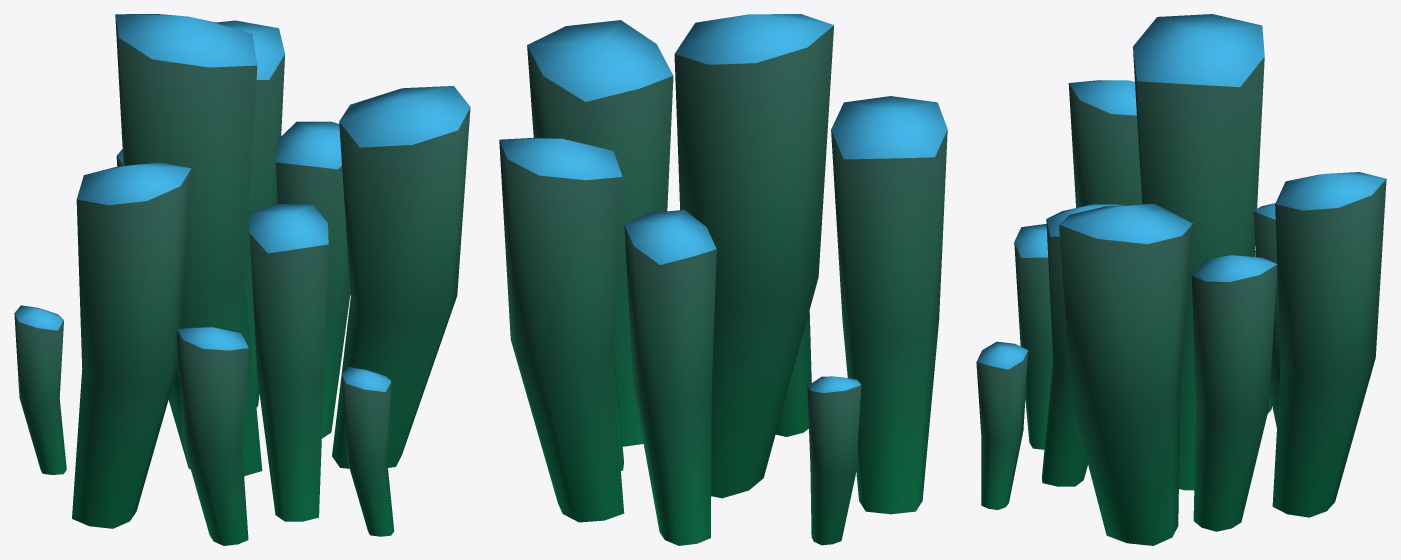
The model's file is kelp2.fbx.
3 renders of one model, left to right at view 1: azimuth 30°, elevation 25°; view 2: azimuth 150°, elevation 25°; view 3: azimuth 270°, elevation 25°, orthographic. The views are drawn at different scales.
Parts seen in each view (by area): view 1: Plant_3; view 2: Plant_3; view 3: Plant_3.
Boxes of the visible parts, <box> form: Plant_3: <box>14,14,470,545</box>; Plant_3: <box>499,14,947,545</box>; Plant_3: <box>976,14,1386,545</box>.
Bounding box in the file's own units: 145 × 165 × 142.
